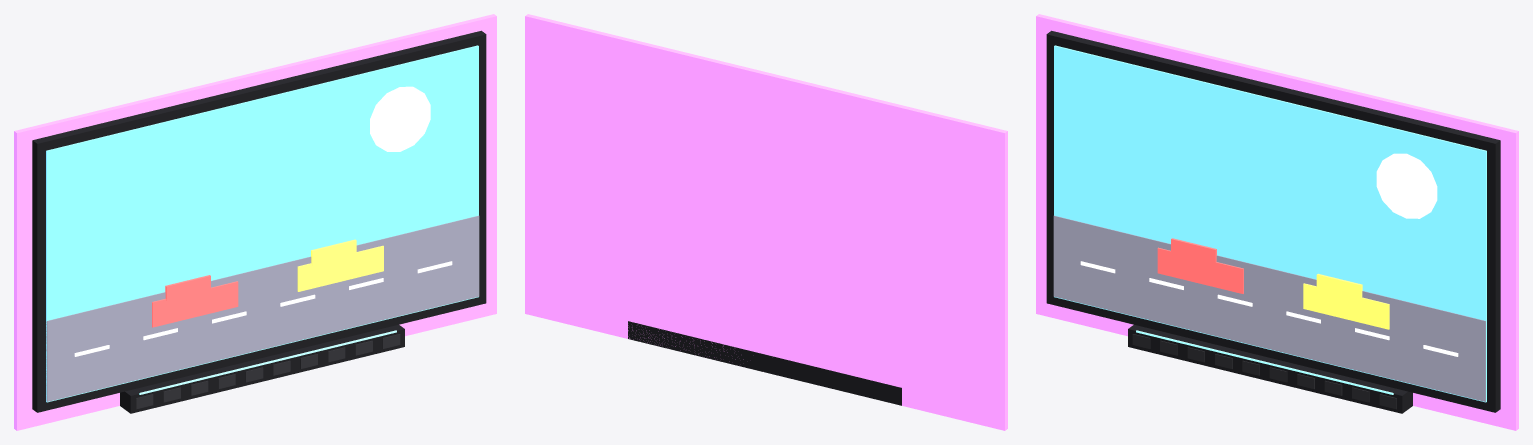
Rendered from lux_cinema_wall.glb.
3 views of the same model, side by side, from view 1: azimuth 30°, elevation 25°; view 2: azimuth 150°, elevation 25°; view 3: azimuth 330°, elevation 25° (orthographic).
Parts seen in each view (by area): view 1: lux_cinema_wall; view 2: lux_cinema_wall; view 3: lux_cinema_wall.
Part boxes in pixels (x1,y1,x2,y2): lux_cinema_wall: [14, 14, 496, 430]; lux_cinema_wall: [525, 14, 1007, 430]; lux_cinema_wall: [1036, 14, 1518, 430].
Bounding box in the file's own units: 2.8 × 1.66 × 0.1455.
